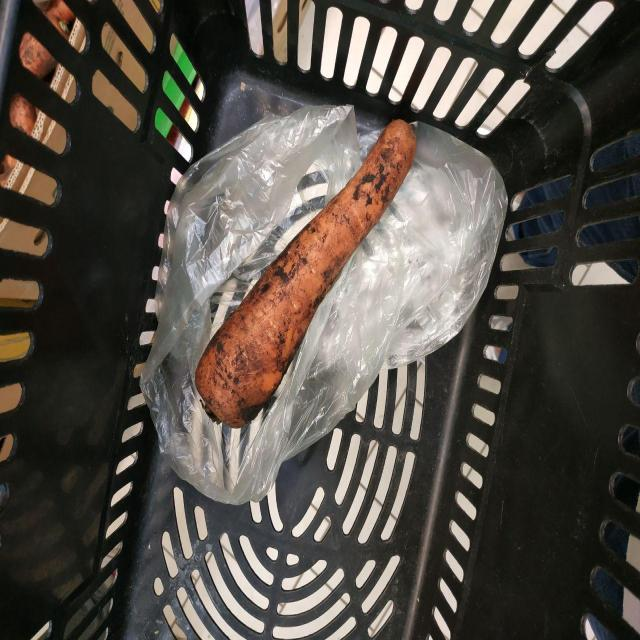Carrot: (195, 120, 416, 428)
